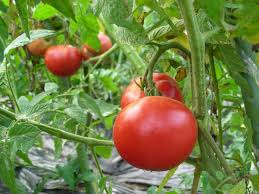tomato: (112, 97, 197, 171), (120, 76, 183, 113), (44, 45, 84, 78), (79, 31, 114, 64)
